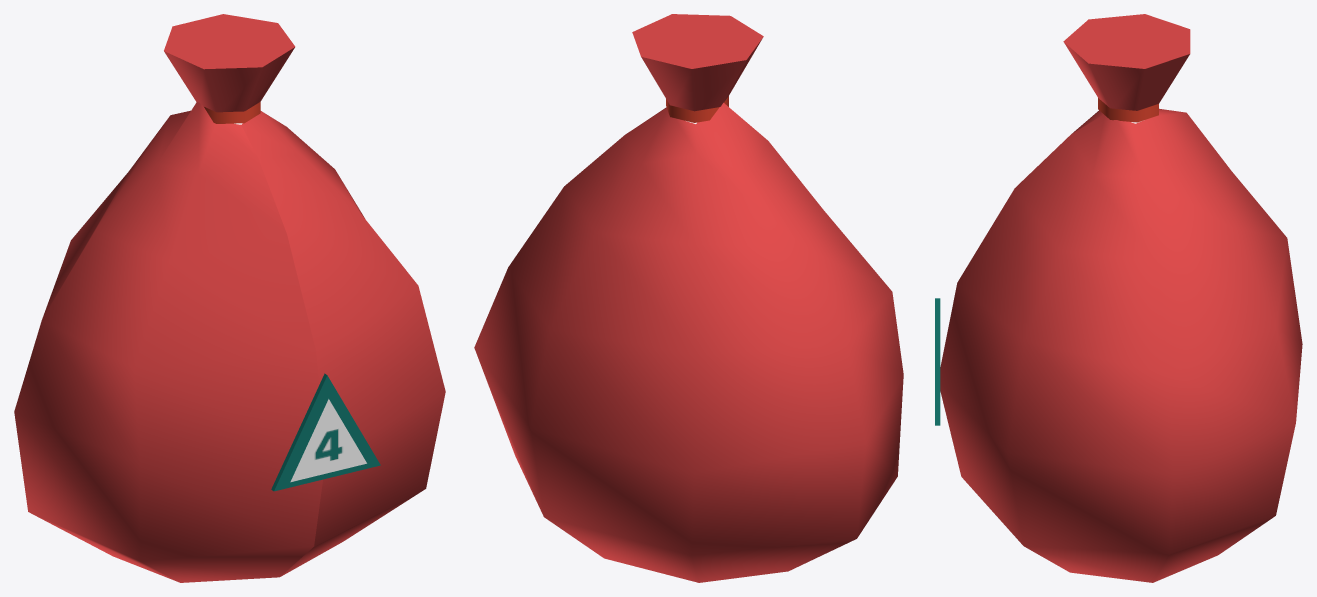
The model's file is kresek.glb.
The picture shows the model from 3 angles, left to right: view 1: azimuth 30°, elevation 25°; view 2: azimuth 150°, elevation 25°; view 3: azimuth 270°, elevation 25°; orthographic projection.
Visible parts, largest first — view 1: kresek_mesh; view 2: kresek_mesh; view 3: kresek_mesh.
Part boxes in pixels (x1,y1,x2,y2): kresek_mesh: (14, 14, 445, 582); kresek_mesh: (474, 14, 903, 582); kresek_mesh: (935, 14, 1302, 582).
Bounding box in the file's own units: 0.8034 × 0.984 × 0.6648.
Materials: 1 (1 with a texture image).
